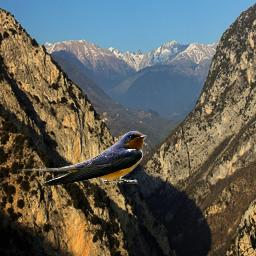Swallow: (16, 130, 147, 186)
